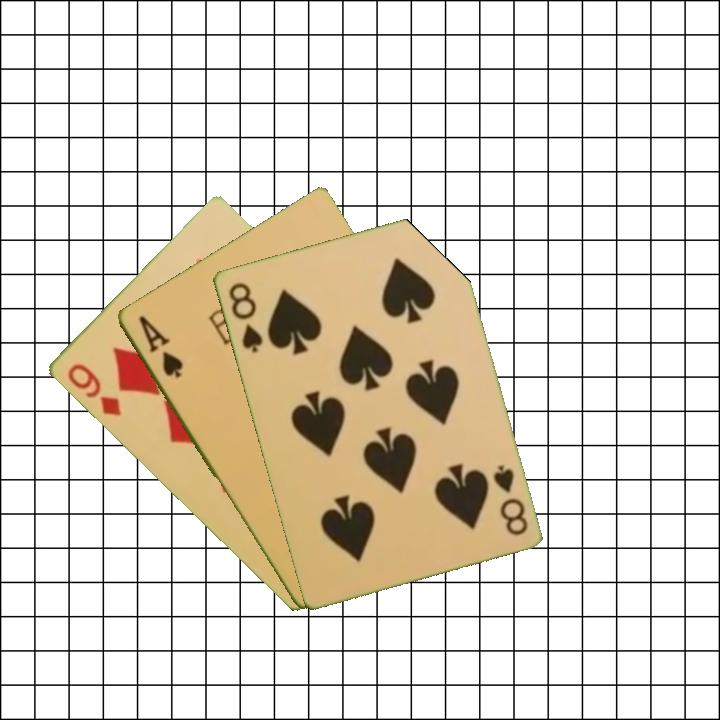8s: (224, 278, 265, 356), (489, 461, 530, 538)
9d: (63, 360, 124, 420)
As: (134, 311, 186, 381)
